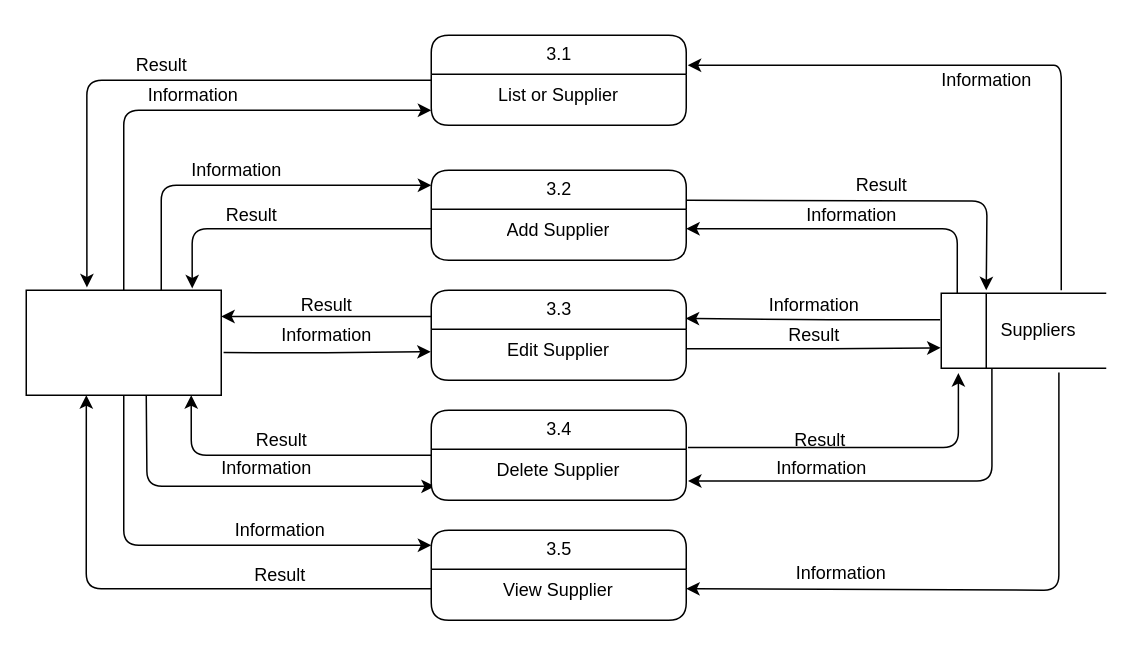
Image size: 1133x654. Some labels were removed from this diagram. The box of each missing label's shape, as (x1, y1, x2, y2) in pixels:
Admin: (25, 289, 221, 395)
D3: (940, 292, 1106, 368)
